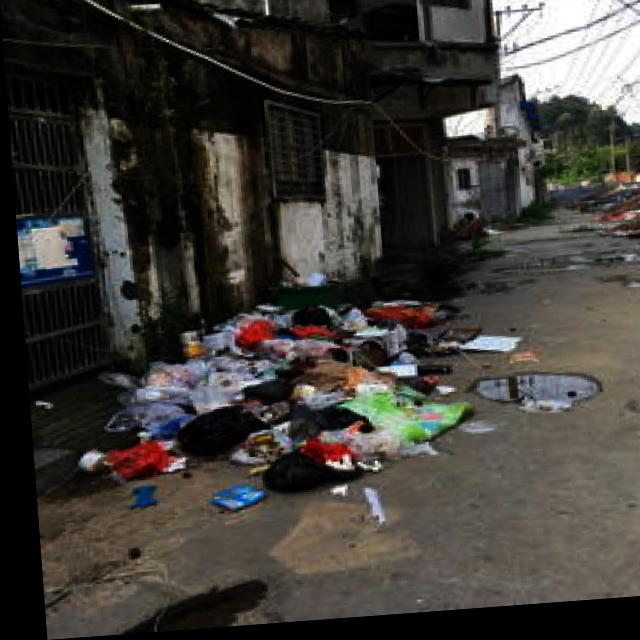garbage: (55, 261, 533, 542)
